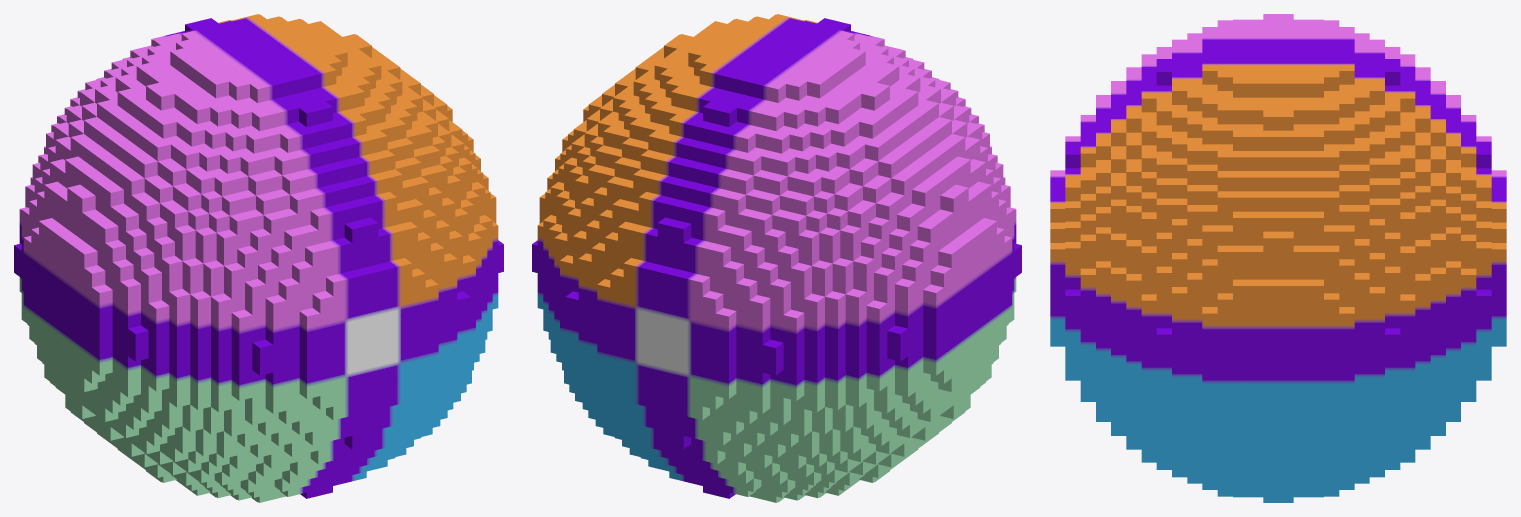
The model's file is Character_4.fbx.
The picture shows the model from 3 angles, left to right: view 1: azimuth 30°, elevation 25°; view 2: azimuth 150°, elevation 25°; view 3: azimuth 270°, elevation 25°; orthographic projection.
Parts seen in each view (by area): view 1: Character_4; view 2: Character_4; view 3: Character_4.
Boxes of the visible parts, x1,y1,x2,y2 form: Character_4: [14, 14, 503, 502]; Character_4: [532, 14, 1021, 502]; Character_4: [1050, 14, 1506, 502].
Size of the model in its own units: 30 by 30 by 30.
1 material, 1 textured.
